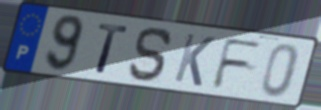0: (258, 42, 301, 100)
9: (42, 13, 85, 75)
F: (209, 36, 266, 91)
K: (171, 31, 217, 89)
S: (126, 25, 175, 84)
T: (94, 21, 131, 76)
